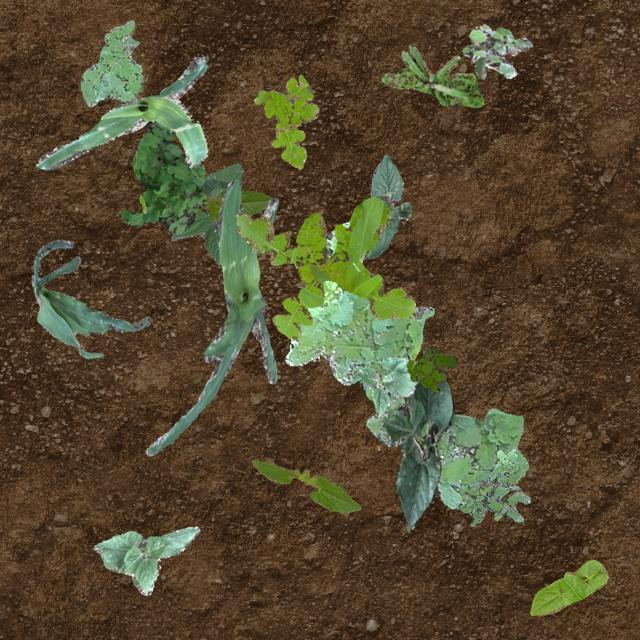crop: (144, 178, 278, 454), (35, 54, 206, 170), (31, 240, 150, 358), (380, 380, 452, 530), (170, 162, 242, 264), (92, 526, 198, 594), (250, 458, 360, 514), (364, 154, 411, 258), (530, 558, 608, 614), (349, 356, 416, 416), (194, 190, 272, 220)
weed: (284, 220, 526, 508), (235, 195, 414, 338), (120, 120, 206, 233), (380, 44, 482, 106), (252, 74, 318, 168), (458, 448, 530, 524), (80, 20, 142, 106), (462, 23, 532, 78), (406, 346, 456, 391)
